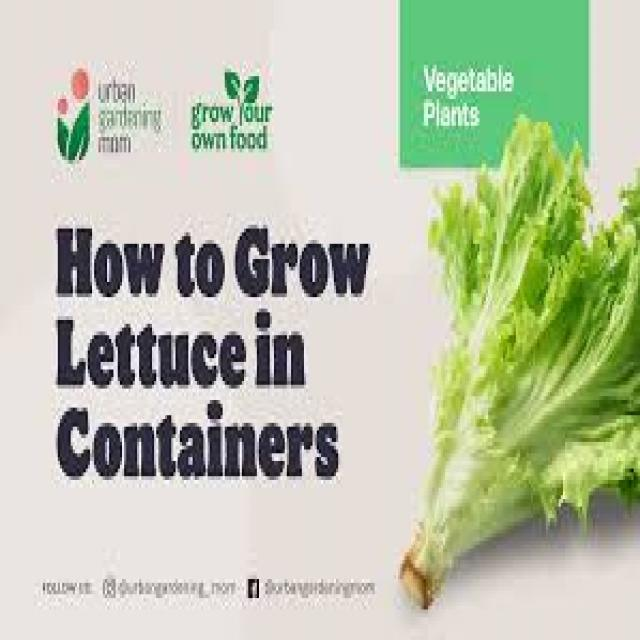Lettuce: (386, 109, 640, 623)
